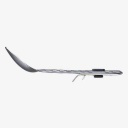Fork: (6, 46, 128, 99)
